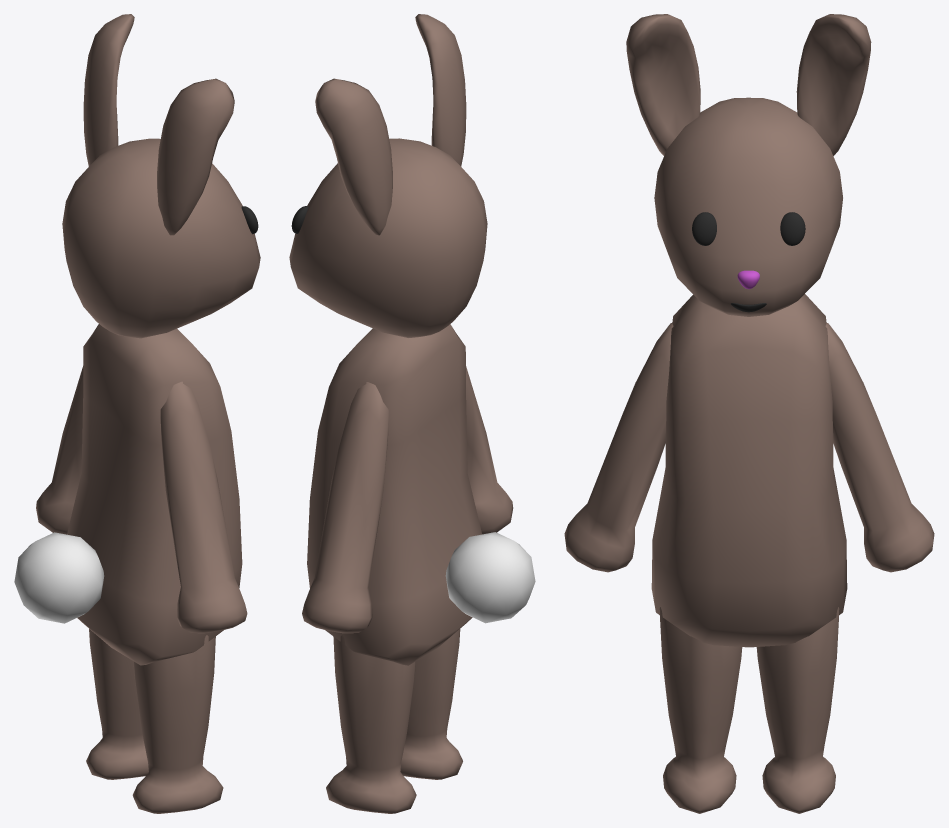
The model's file is rabbitBaseModel.glb.
3 views of the same model, side by side, from view 1: azimuth 30°, elevation 25°; view 2: azimuth 150°, elevation 25°; view 3: azimuth 270°, elevation 25° (orthographic). The views are drawn at different scales.
Parts seen in each view (by area): view 1: Cube, Head, LEgs, Arms, ears, TAIL; view 2: Cube, Head, LEgs, Arms, ears, TAIL; view 3: Cube, Head, LEgs, Arms, ears, Eyes.
Part boxes in pixels (<box>): Cube: <box>67,324,242,665</box>; Head: <box>62,138,260,338</box>; LEgs: <box>86,629,223,813</box>; Arms: <box>36,366,247,633</box>; ears: <box>83,14,234,235</box>; TAIL: <box>14,532,104,623</box>; Cube: <box>307,324,482,665</box>; Head: <box>289,138,487,337</box>; LEgs: <box>326,629,462,813</box>; Arms: <box>302,366,513,633</box>; ears: <box>315,14,466,235</box>; TAIL: <box>445,532,535,623</box>; Cube: <box>651,294,847,647</box>; Head: <box>654,97,842,316</box>; LEgs: <box>659,607,839,813</box>; Arms: <box>564,323,934,572</box>; ears: <box>626,14,871,155</box>; Eyes: <box>692,212,805,245</box>.
Size of the model in its own units: 1.66 by 5.03 by 2.14.
3 materials, 1 textured.
